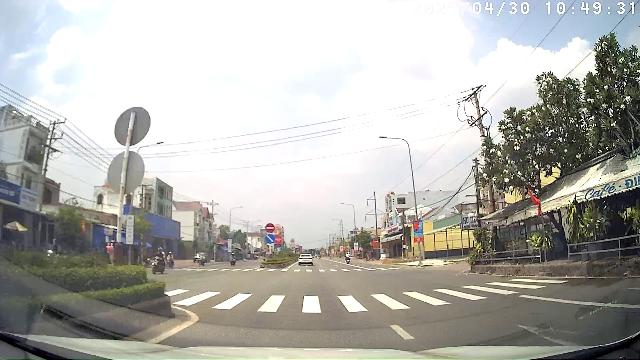102-cam-di-nguoc-chieu: (266, 223, 274, 233)
302a-huong-phai-di-vong-chuong-ngai-vat-1: (266, 234, 274, 243)
